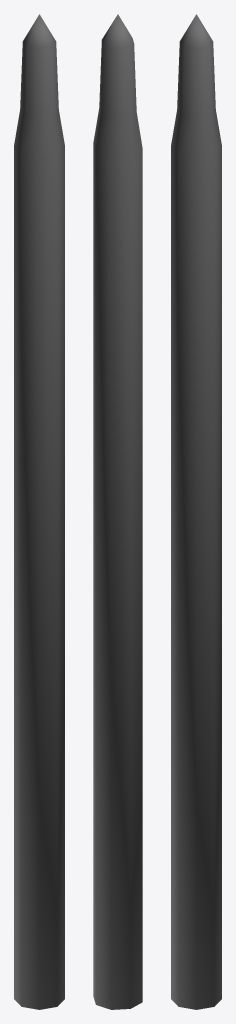
Rendered from rod.fbx.
The picture shows the model from 3 angles, left to right: view 1: azimuth 90°, elevation 25°; view 2: azimuth 210°, elevation 25°; view 3: azimuth 270°, elevation 25°; orthographic projection.
Visible parts, largest first — view 1: rod; view 2: rod; view 3: rod.
Boxes of the visible parts, box(x1,y1,x2,y2) form: rod: box(14, 14, 64, 1009); rod: box(93, 14, 142, 1009); rod: box(171, 14, 221, 1009).
Bounding box in the file's own units: 19.6 × 419 × 19.6.
